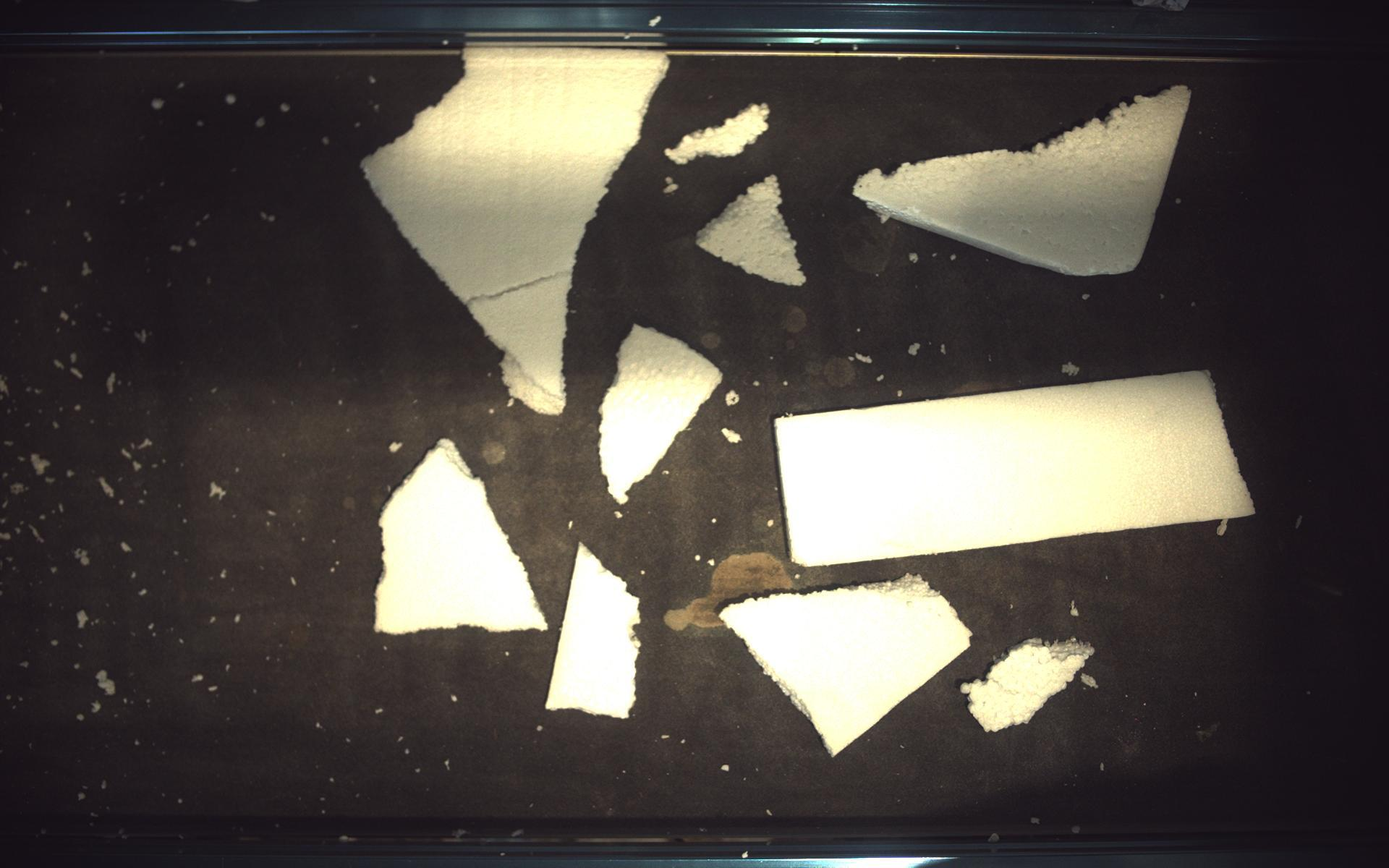foam: (362, 47, 668, 414), (776, 371, 1257, 567), (855, 85, 1194, 276), (721, 575, 972, 757), (374, 439, 548, 635), (600, 325, 722, 502), (546, 544, 640, 719), (964, 639, 1096, 733), (697, 174, 807, 285), (666, 103, 770, 163)
